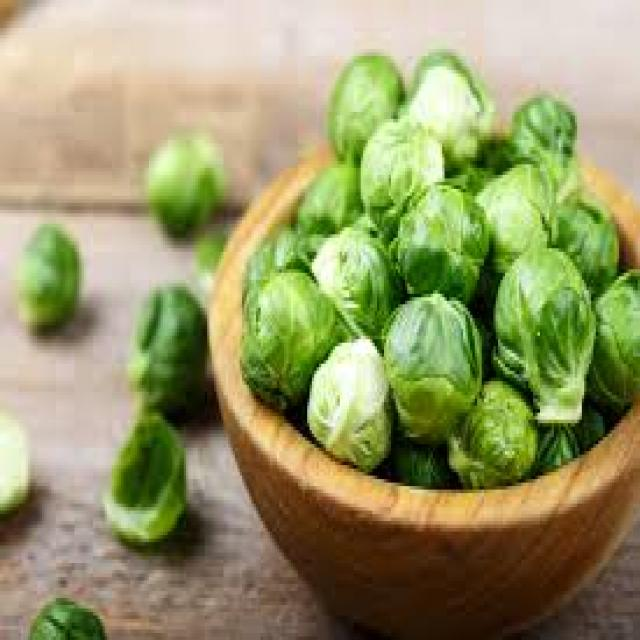organic waste: (491, 241, 600, 423), (377, 286, 486, 434), (238, 266, 344, 402), (389, 178, 491, 294), (126, 283, 210, 420), (100, 406, 184, 542), (307, 220, 398, 343), (305, 332, 389, 465), (472, 150, 561, 270), (444, 374, 536, 490), (400, 45, 489, 161), (361, 108, 440, 231), (147, 126, 221, 238), (328, 52, 400, 158), (591, 262, 638, 413), (545, 185, 612, 284), (12, 224, 76, 325), (528, 399, 603, 472), (510, 91, 575, 175), (296, 161, 360, 234), (242, 220, 324, 273), (384, 437, 454, 490), (456, 130, 512, 186), (0, 412, 30, 514), (28, 594, 100, 636), (193, 227, 224, 266)
